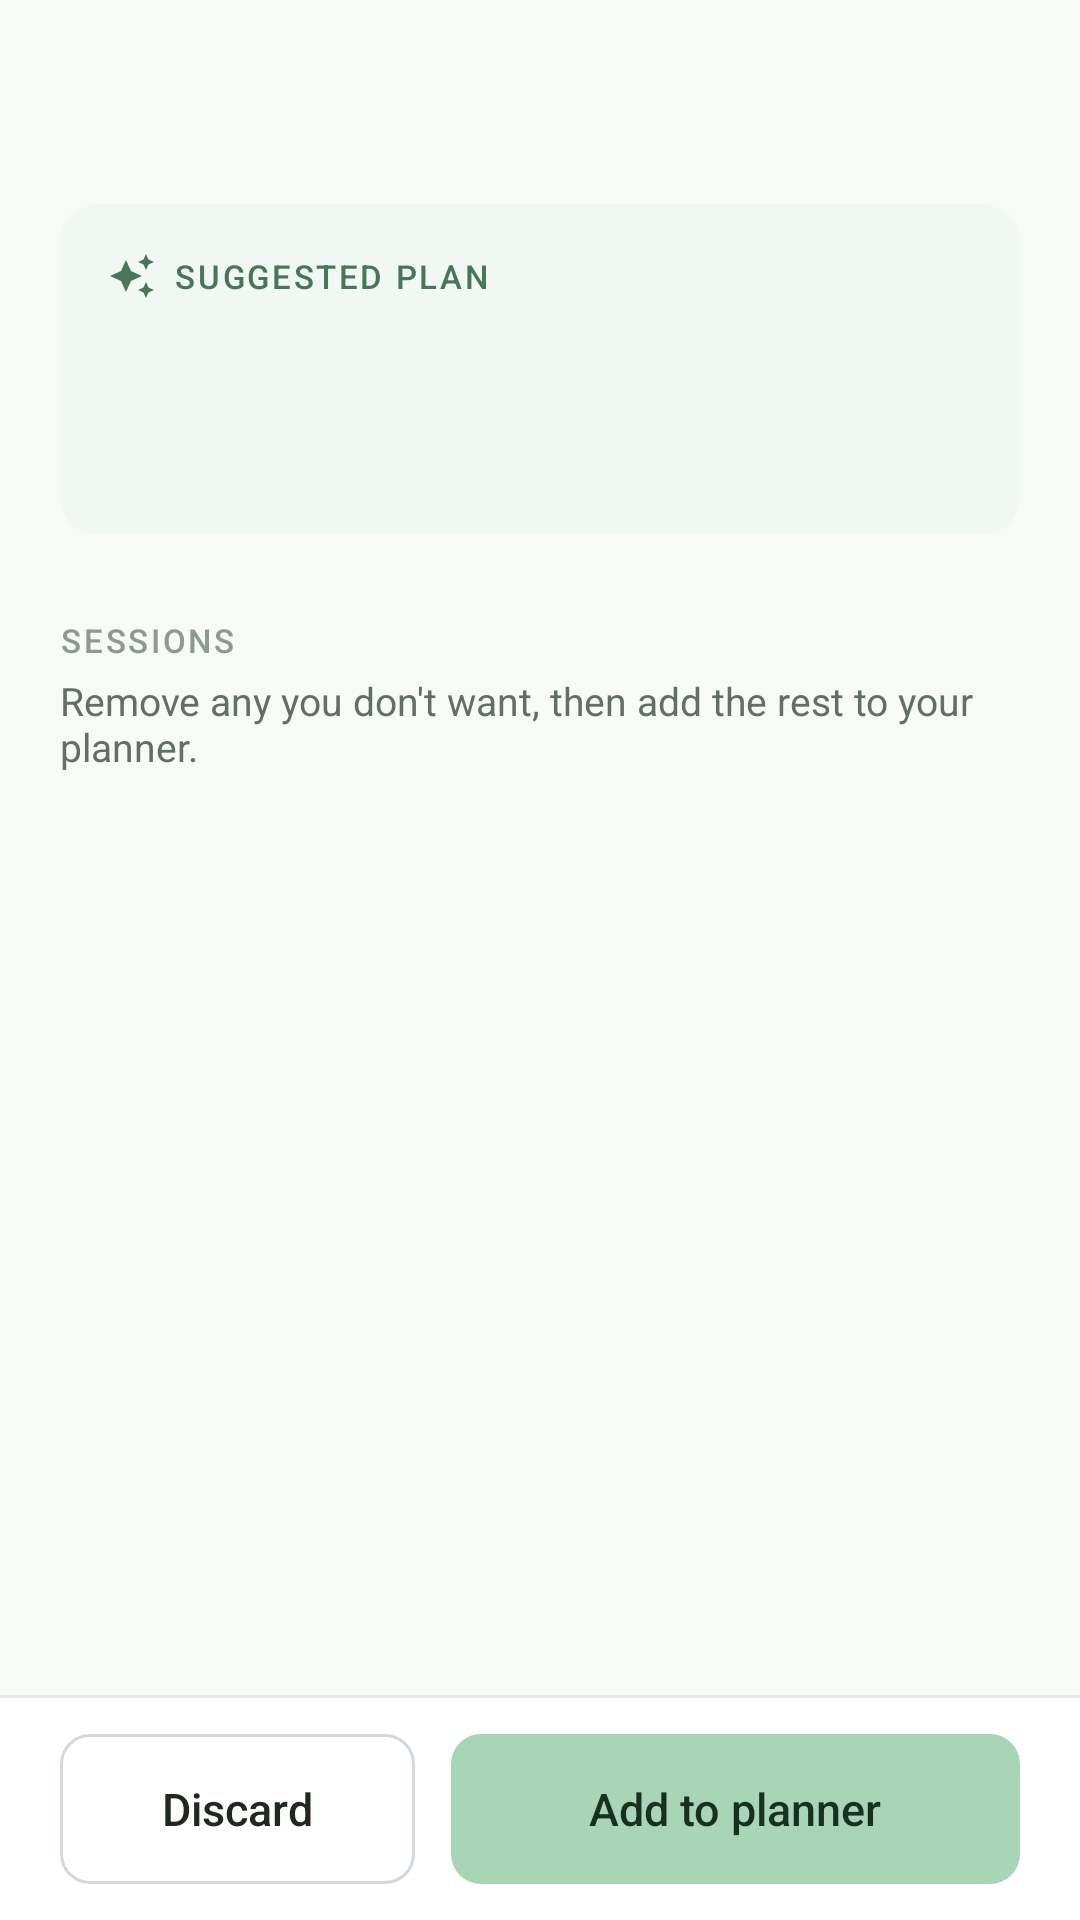

Named icons in this screenshot (1080*1920) and their bounding boxes, Rect(x1, y1, x2, y2):
sparkle: Rect(110, 254, 154, 298)
